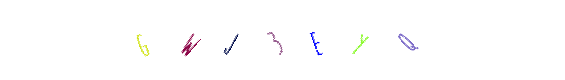3: (242, 0, 322, 80)
E: (247, 0, 327, 80)
G: (149, 0, 229, 80)
J: (200, 0, 280, 80)
Q: (275, 0, 355, 80)
W: (191, 0, 271, 80)
Y: (274, 0, 354, 80)
